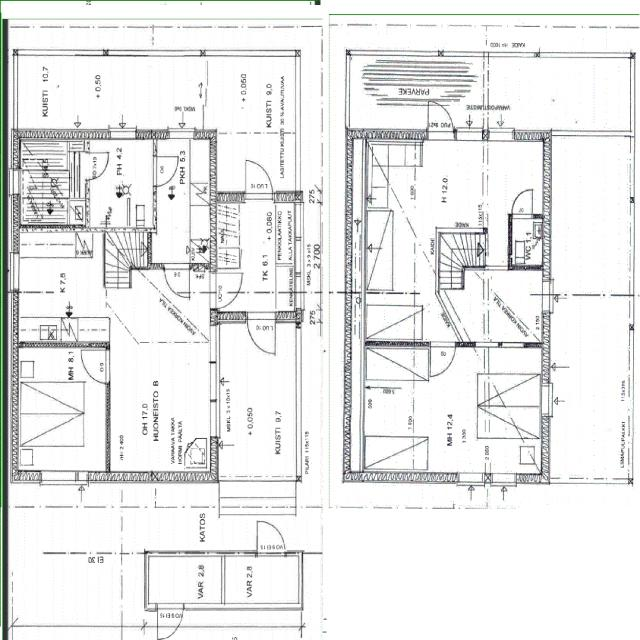door: (246, 310, 275, 359), (245, 156, 274, 203), (257, 515, 285, 557), (210, 274, 244, 308), (428, 96, 453, 140), (79, 351, 110, 384), (165, 263, 190, 300), (430, 341, 455, 378), (153, 157, 180, 186), (85, 153, 111, 179), (513, 189, 532, 219)
